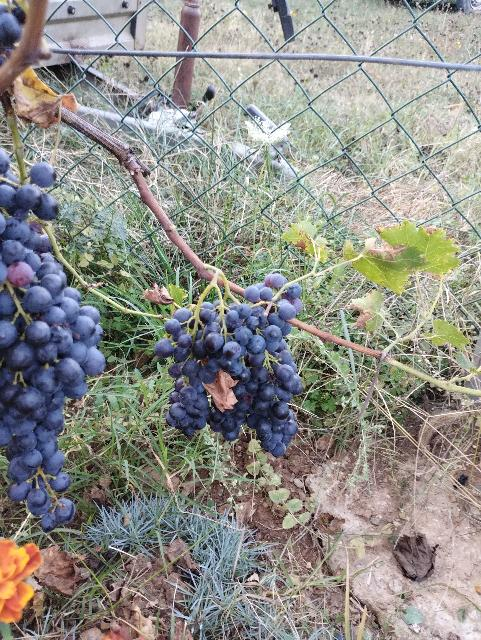grapes: (0, 150, 106, 532), (198, 302, 266, 441), (255, 272, 304, 456), (155, 302, 220, 435)
